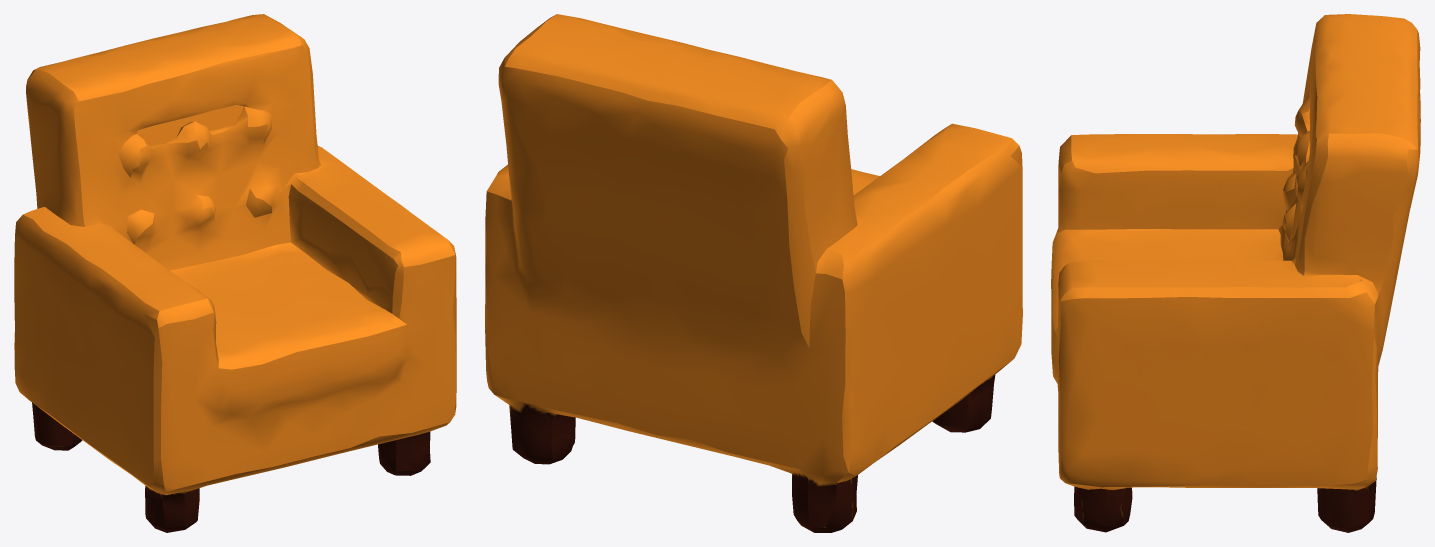
File: mustard-armchair.glb
3 renders of one model, left to right at view 1: azimuth 30°, elevation 25°; view 2: azimuth 150°, elevation 25°; view 3: azimuth 270°, elevation 25°, orthographic. The views are drawn at different scales.
Visible parts, largest first — view 1: geometry_0; view 2: geometry_0; view 3: geometry_0.
Boxes of the visible parts, box(x1,y1,x2,y2) form: geometry_0: box(14, 14, 456, 532); geometry_0: box(485, 14, 1022, 532); geometry_0: box(1051, 14, 1420, 532).
Size of the model in its own units: 0.8795 by 1 by 0.8531.
1 material, 1 textured.
